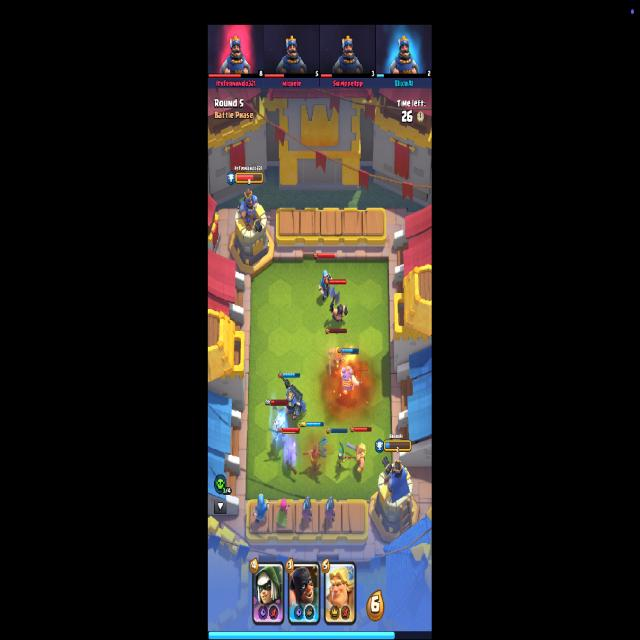archer: (275, 498, 291, 527)
bandit: (284, 442, 298, 478)
barbarian: (327, 345, 347, 375)
card_bandit: (252, 561, 284, 626)
card_executioner: (288, 562, 320, 625)
card_golden_knight: (324, 562, 356, 626)
dart_goblin: (304, 437, 327, 473), (335, 441, 354, 469)
electro_giant: (339, 365, 362, 396)
executioner: (329, 286, 348, 323)
golden_knight: (346, 439, 366, 474)
musketeer: (300, 497, 316, 525), (324, 496, 337, 526)
royal_ghost: (272, 412, 287, 444)
skeleton_king: (279, 372, 307, 424)
wizard: (252, 494, 270, 525), (319, 270, 335, 300)
